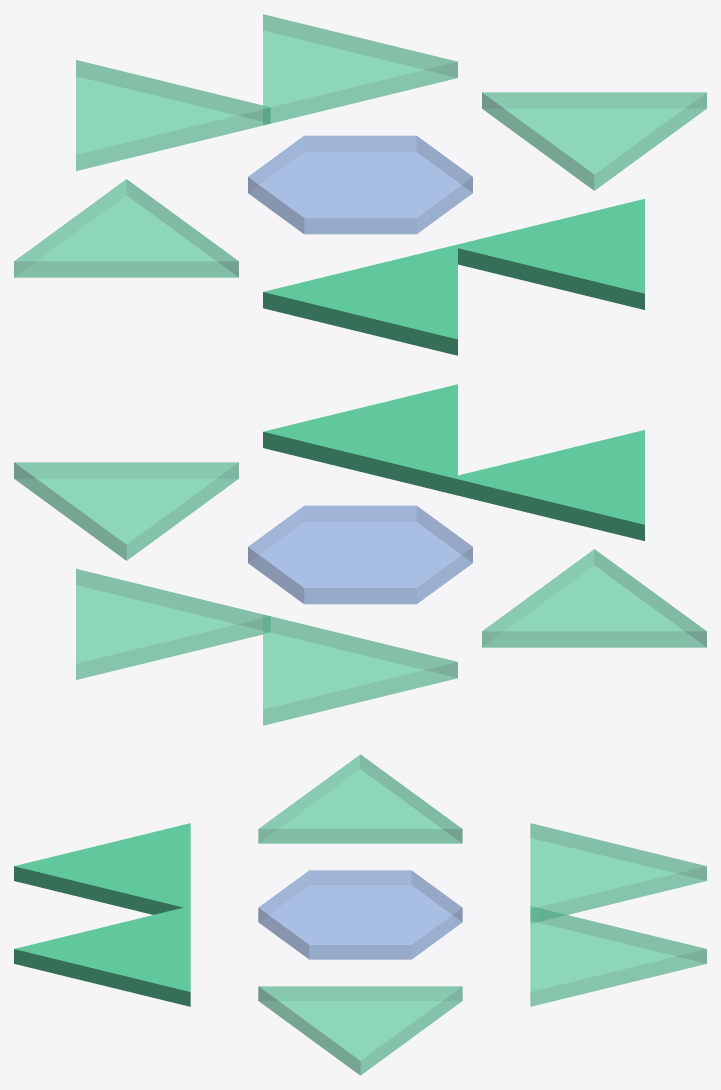
File: stella_step5.glb
3 views of the same model, one above another, from view 1: azimuth 30°, elevation 25°; view 2: azimuth 150°, elevation 25°; view 3: azimuth 270°, elevation 25° (orthographic). The views are drawn at different scales.
Visible parts, largest first — view 1: esagono, triangolo_equilatero.002, triangolo_equilatero.003, triangolo_equilatero.004, triangolo_equilatero.001, triangolo_equilatero, triangolo_equilatero.005; view 2: esagono, triangolo_equilatero.002, triangolo_equilatero.003, triangolo_equilatero, triangolo_equilatero.004, triangolo_equilatero.001, triangolo_equilatero.005; view 3: esagono, triangolo_equilatero.002, triangolo_equilatero.003, triangolo_equilatero.005, triangolo_equilatero.001, triangolo_equilatero, triangolo_equilatero.004.
Part boxes in pixels (x1,y1,x2,y2): esagono: (248, 135, 472, 234); triangolo_equilatero.002: (14, 179, 238, 277); triangolo_equilatero.003: (482, 92, 706, 190); triangolo_equilatero.004: (263, 244, 457, 355); triangolo_equilatero.001: (263, 14, 457, 125); triangolo_equilatero: (76, 60, 270, 170); triangolo_equilatero.005: (458, 199, 644, 309); esagono: (248, 505, 472, 604); triangolo_equilatero.002: (482, 549, 706, 647); triangolo_equilatero.003: (14, 462, 238, 560); triangolo_equilatero: (263, 614, 457, 725); triangolo_equilatero.004: (450, 430, 644, 540); triangolo_equilatero.001: (76, 569, 270, 679); triangolo_equilatero.005: (263, 384, 457, 493); esagono: (258, 870, 462, 959); triangolo_equilatero.002: (258, 754, 462, 843); triangolo_equilatero.003: (258, 986, 462, 1075); triangolo_equilatero.005: (14, 906, 190, 1006); triangolo_equilatero.001: (530, 906, 706, 1006); triangolo_equilatero: (530, 823, 706, 923); triangolo_equilatero.004: (14, 823, 190, 914).
Bounding box in the file's own units: 3.55 × 0.08 × 3.39.
